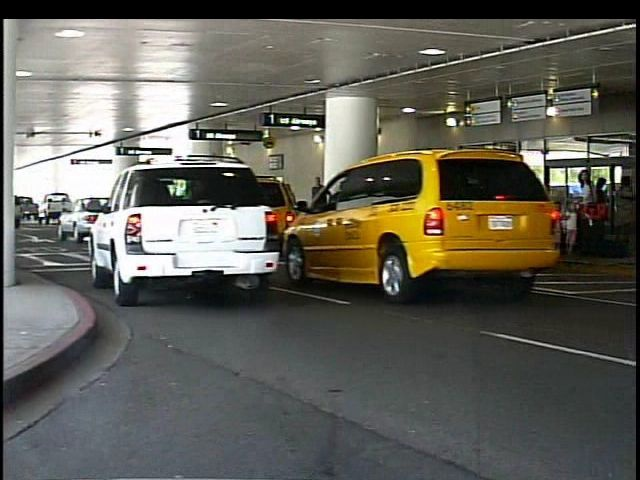person: (572, 168, 601, 259), (497, 170, 526, 260), (310, 172, 337, 249), (593, 175, 613, 245), (566, 200, 583, 253)
